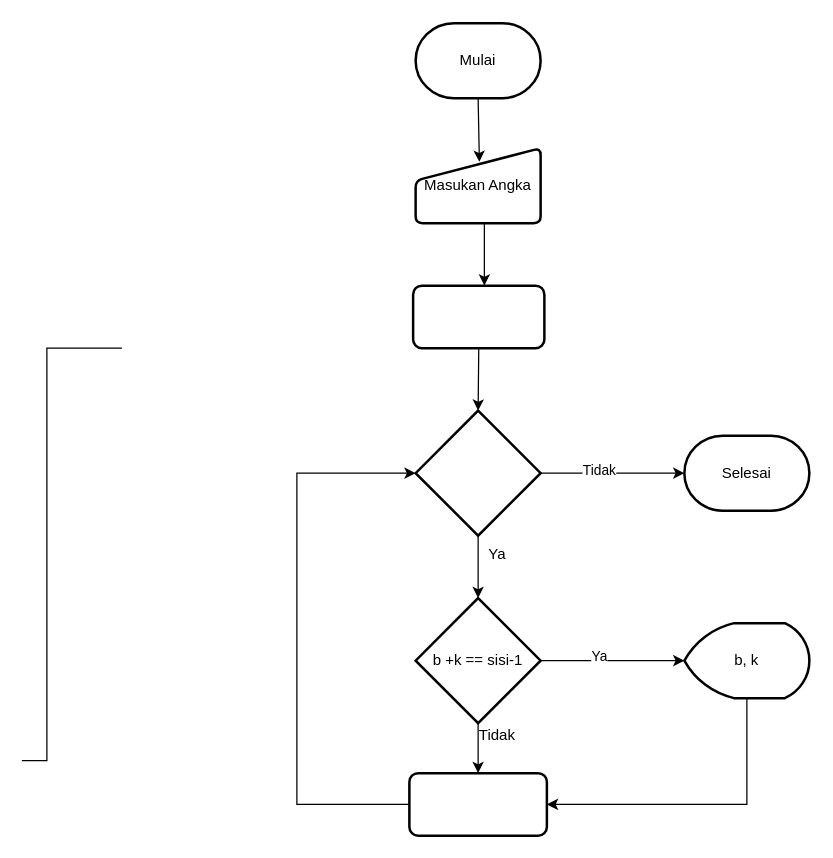
This 833x858 diagram has some shape labels left out. Here are the shapes that lost their labels. From the top down, the centre of each, then its label:
pixel 478 316: b = 0 k = 0
pixel 477 472: b<sisi b == k
pixel 478 803: b, k = 1
